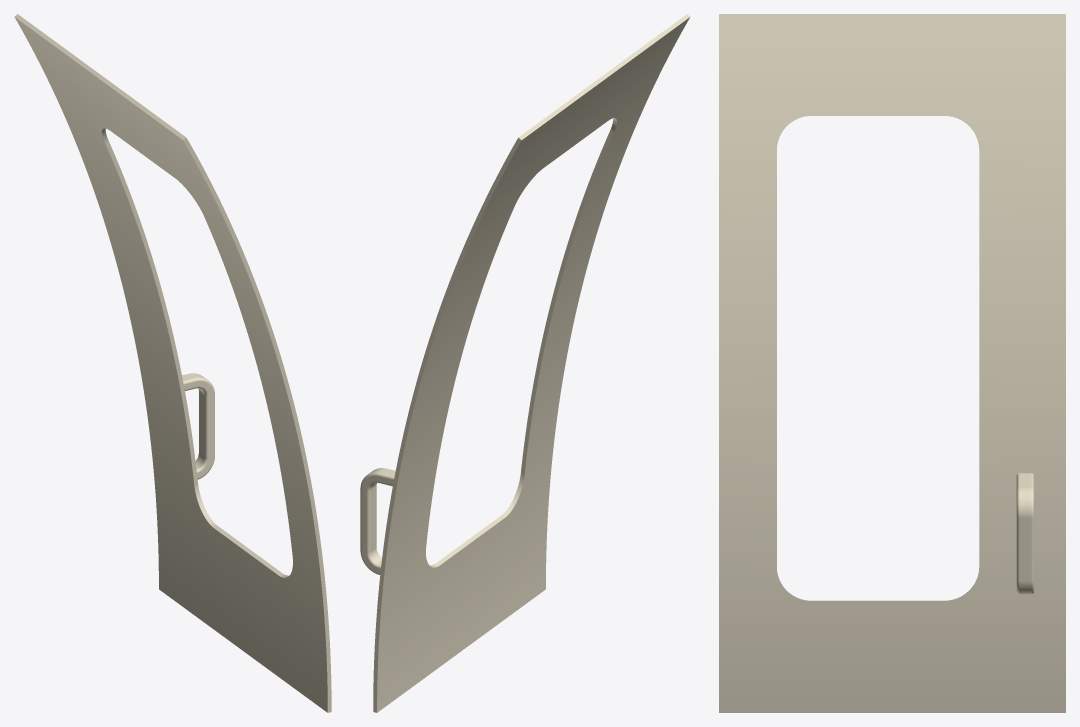
Rendered from Left door.fbx.
The picture shows the model from 3 angles, left to right: view 1: azimuth 30°, elevation 25°; view 2: azimuth 150°, elevation 25°; view 3: azimuth 270°, elevation 25°; orthographic projection. The views are drawn at different scales.
Visible parts, largest first — view 1: Leftt door new M; view 2: Leftt door new M; view 3: Leftt door new M.
Part boxes in pixels (left/top/right/bottom): Leftt door new M: left=14, top=14, right=331, bottom=712; Leftt door new M: left=360, top=14, right=690, bottom=712; Leftt door new M: left=719, top=14, right=1065, bottom=712.
Size of the model in its own units: 36.48 by 120 by 60.
